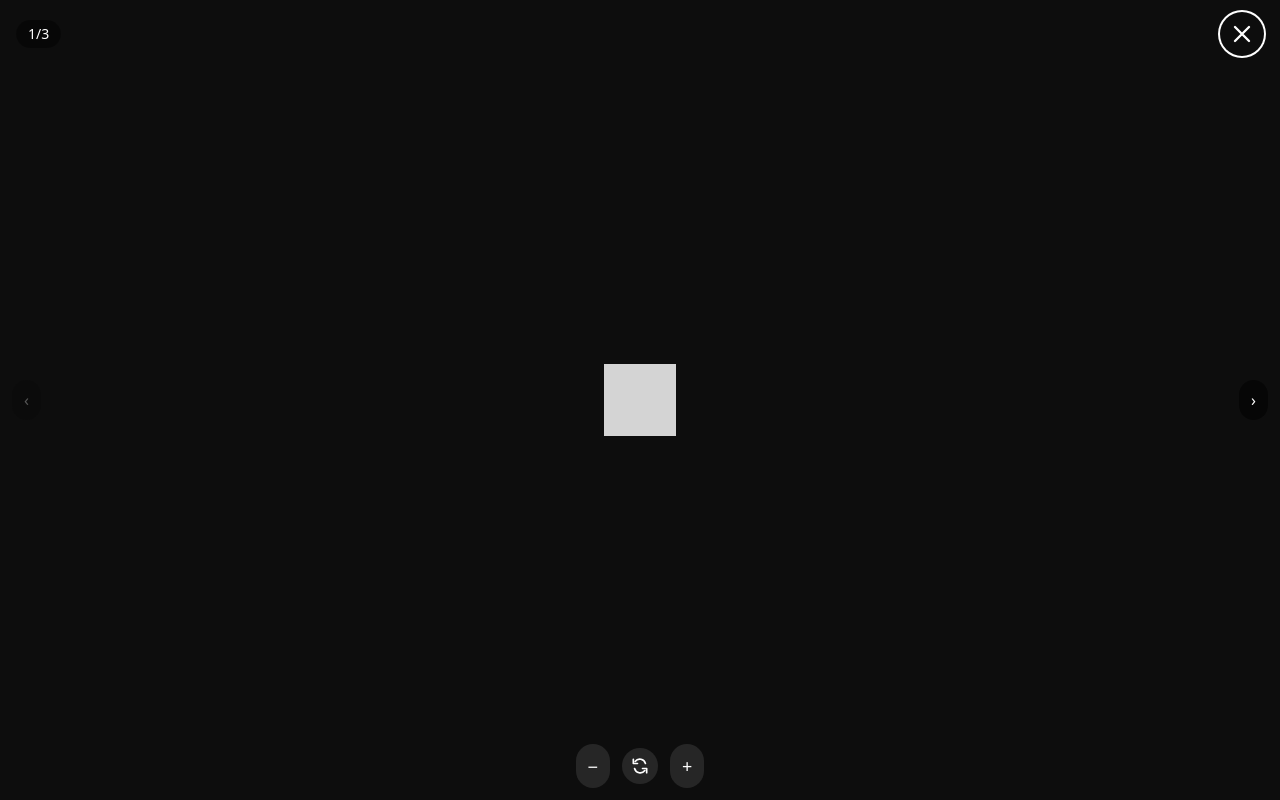
Scenario: ImageViewer › setas anterior/próxima navegam e o contador acompanha
Click the button named "Próxima foto" at point(1254, 400), box [1239,380,1268,420]
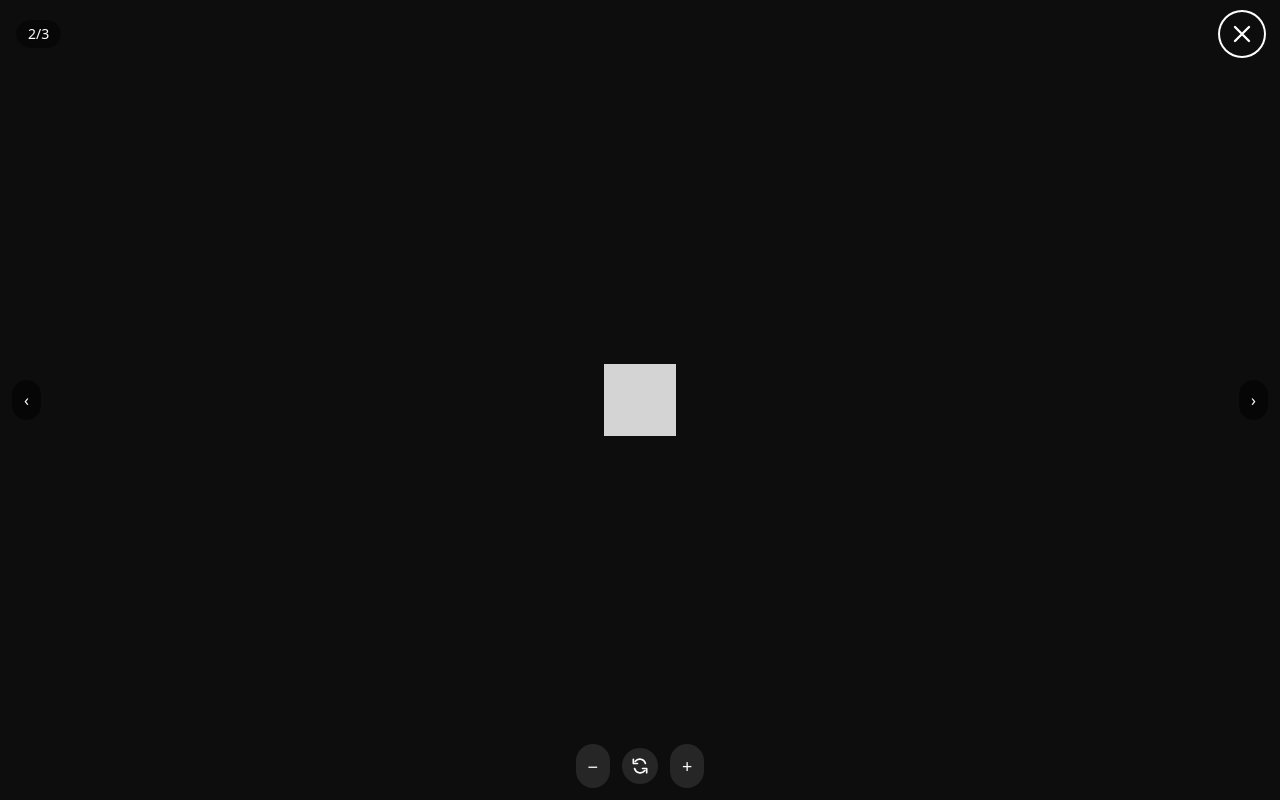
Result: the text "2/3" is shown at [16,20,61,48]
Click the button named "Foto anterior" at point(26, 400), box [12,380,41,420]
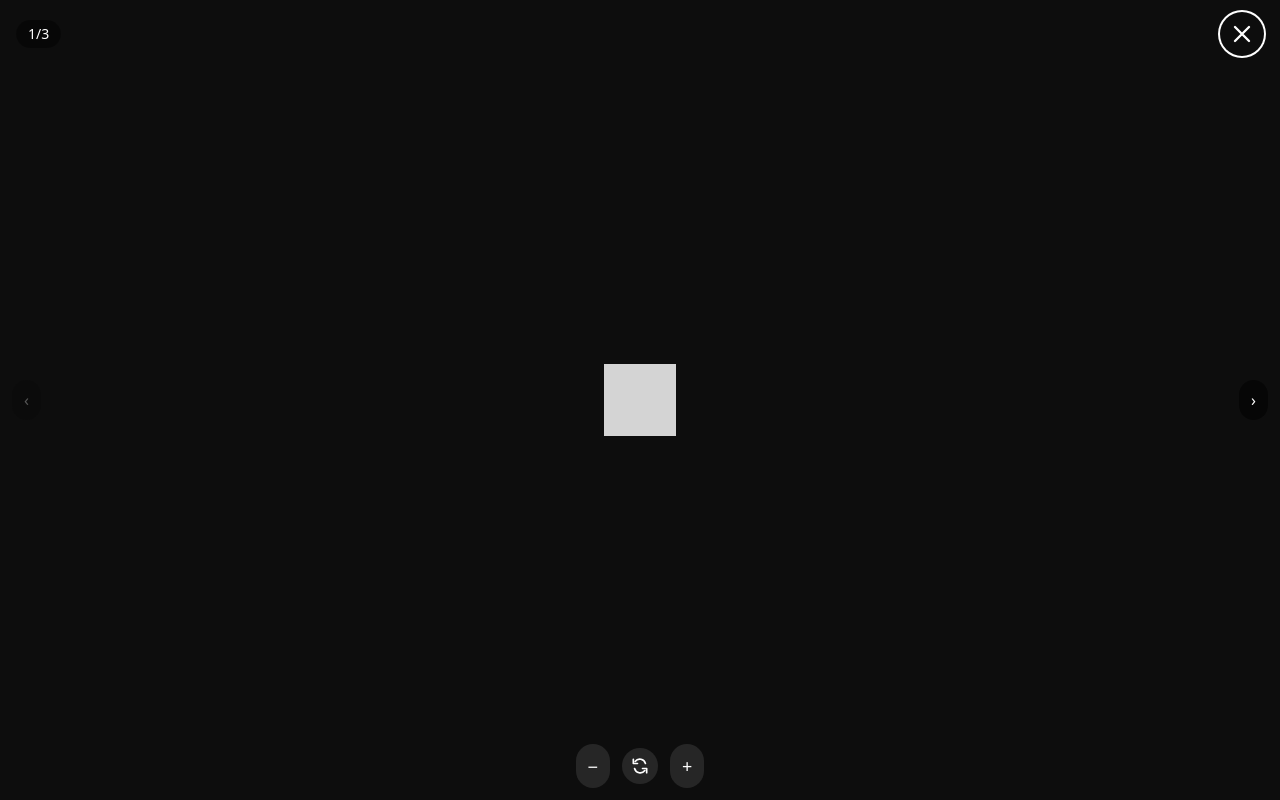
Result: the text "1/3" is shown at [16,20,61,48]
